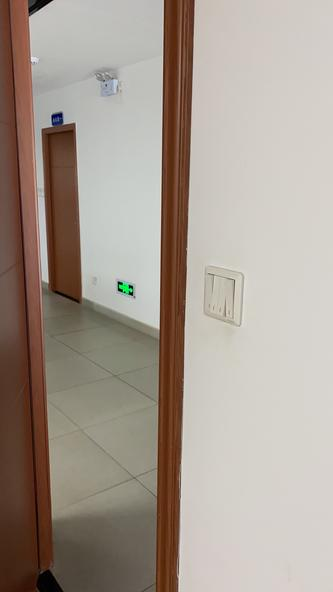switch: (226, 278, 233, 320), (205, 267, 210, 317), (217, 272, 221, 321)
